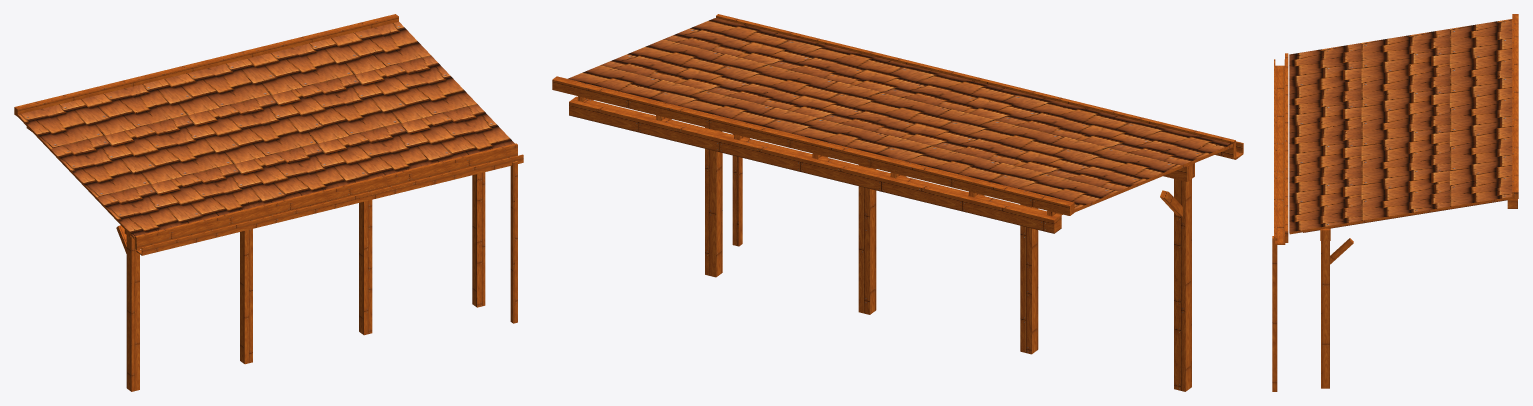
File: Roof_Porch_6x3.fbx
3 views of the same model, side by side, from view 1: azimuth 30°, elevation 25°; view 2: azimuth 150°, elevation 25°; view 3: azimuth 270°, elevation 25° (orthographic). The views are drawn at different scales.
Parts seen in each view (by area): view 1: Roof_Porch_6x3; view 2: Roof_Porch_6x3; view 3: Roof_Porch_6x3.
Part boxes in pixels (x1,y1,x2,y2): Roof_Porch_6x3: (14,14,523,391); Roof_Porch_6x3: (552,14,1243,391); Roof_Porch_6x3: (1272,14,1518,391).
Bounding box in the file's own units: 6.4 × 3.41 × 3.75.
